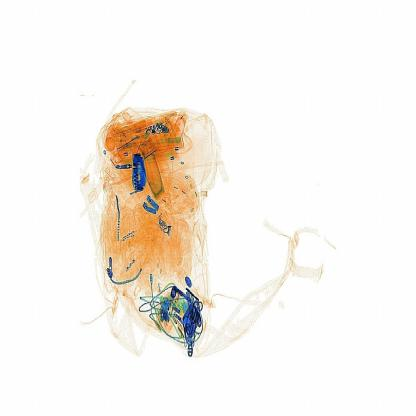scissors: (127, 144, 150, 206)
